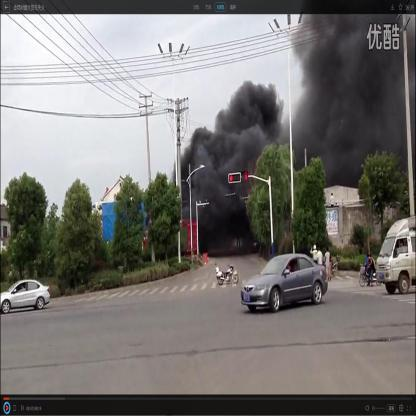smoke: (290, 13, 414, 168), (174, 124, 230, 235), (215, 79, 287, 125), (231, 126, 268, 172), (329, 165, 359, 186)
